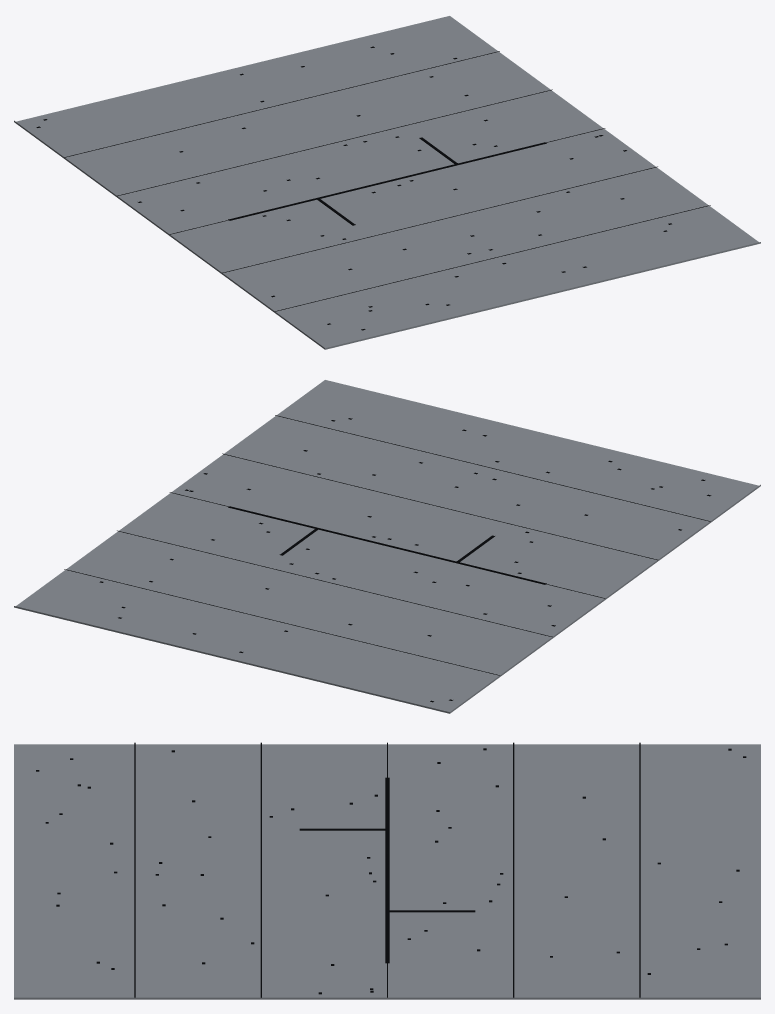
The model's file is v5_branch_floor.glb.
3 renders of one model, top to bottom at view 1: azimuth 30°, elevation 25°; view 2: azimuth 150°, elevation 25°; view 3: azimuth 270°, elevation 25°, orthographic. The views are drawn at different scales.
Visible parts, largest first — view 1: Terrazzo, Joint_Lines, Branch_Inlay; view 2: Terrazzo, Joint_Lines, Branch_Inlay; view 3: Terrazzo, Joint_Lines, Branch_Inlay, Terrazzo_Chips.
Part boxes in pixels (x1,y1,x2,y2): Terrazzo: [14, 16, 760, 349]; Joint_Lines: [64, 51, 710, 311]; Branch_Inlay: [228, 137, 546, 225]; Terrazzo: [14, 380, 760, 713]; Joint_Lines: [64, 415, 710, 675]; Branch_Inlay: [228, 506, 546, 584]; Terrazzo: [14, 744, 760, 999]; Joint_Lines: [134, 742, 640, 997]; Branch_Inlay: [299, 777, 475, 963]; Terrazzo_Chips: [36, 748, 746, 994].
Size of what is drawn, in the model's own units: 5.5 by 0.022 by 6.8.
Materials: 2 (1 with a texture image).
